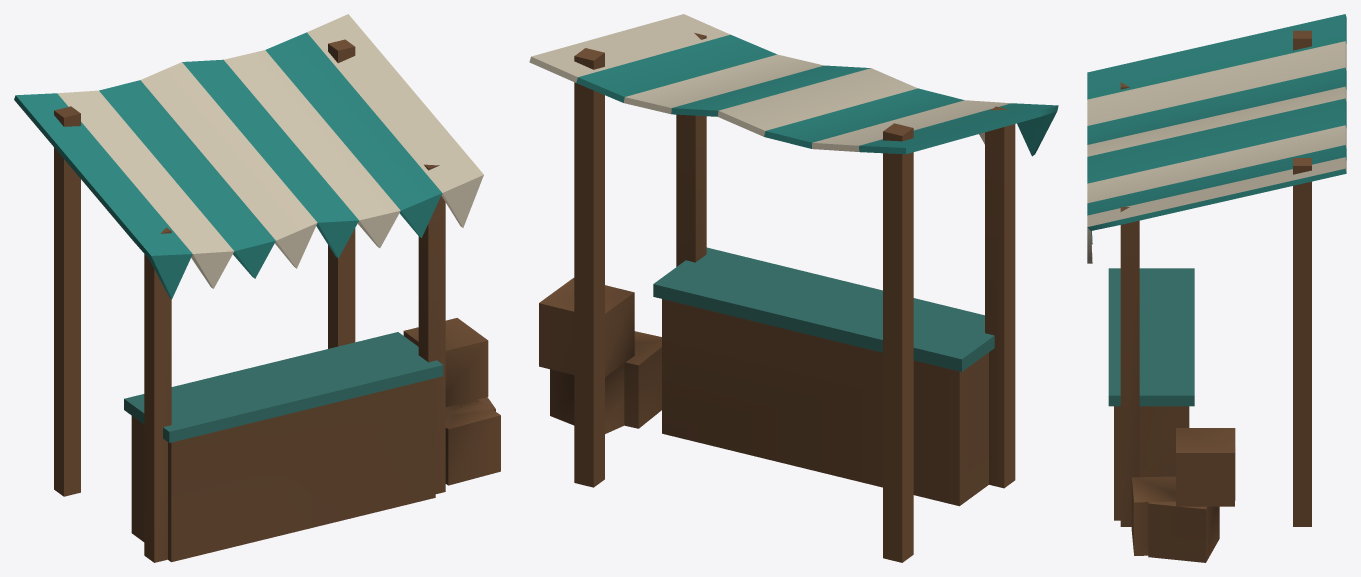
The model's file is StallTeal.glb.
3 renders of one model, left to right at view 1: azimuth 30°, elevation 25°; view 2: azimuth 150°, elevation 25°; view 3: azimuth 270°, elevation 25°, orthographic. The views are drawn at different scales.
Visible parts, largest first — view 1: Canopy, Frame.001; view 2: Frame.001, Canopy; view 3: Canopy, Frame.001.
Part boxes in pixels (x1=…): Canopy: x1=14, y1=14, x2=483, y2=442; Frame.001: x1=54, y1=39, x2=500, y2=562; Frame.001: x1=539, y1=33, x2=1015, y2=562; Canopy: x1=529, y1=14, x2=1058, y2=371; Canopy: x1=1087, y1=14, x2=1346, y2=406; Frame.001: x1=1114, y1=30, x2=1311, y2=562.
Size of the model in its own units: 7.97 by 7.55 by 4.82.
